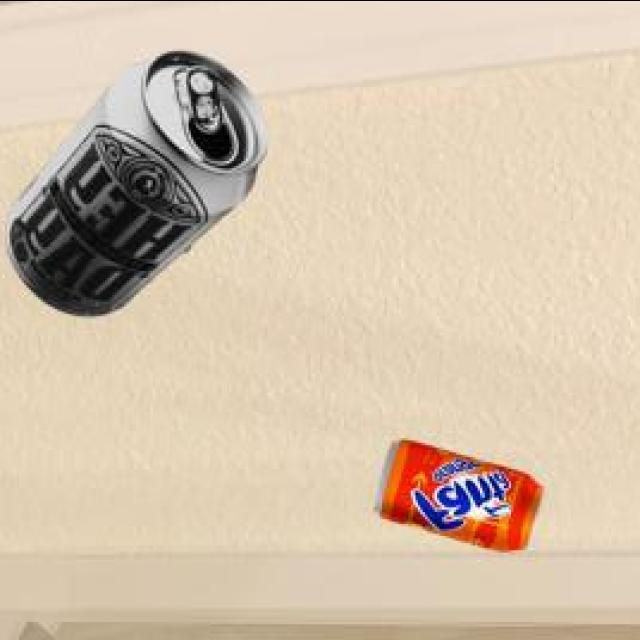logam: (11, 54, 271, 319), (379, 443, 546, 555)
